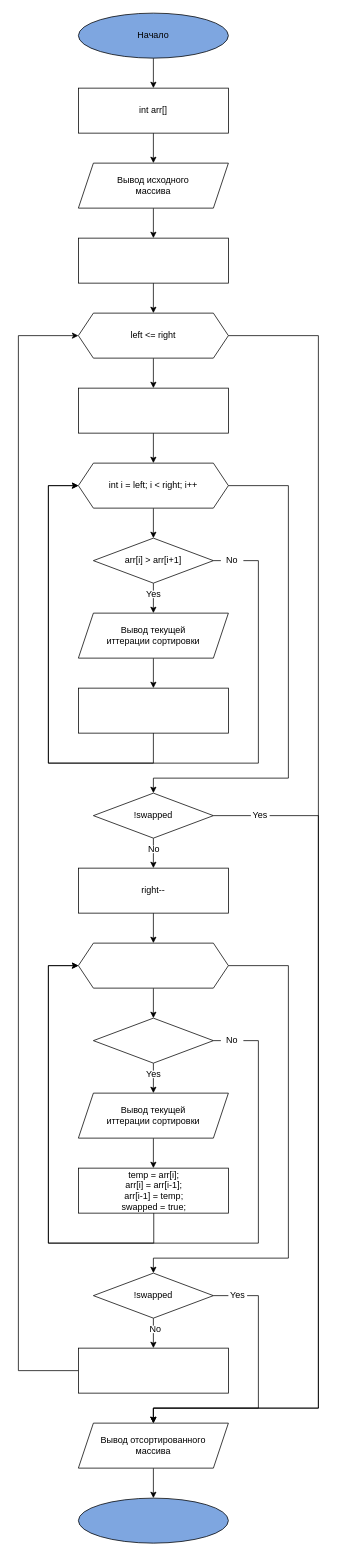
This 338x1556 diagram has some shape labels left out. The centre of each missing label's shape, as x and y in pixels:
"arr[i] < arr[i-1]" goes at point (153, 1040).
"int i = right; i > left; i--" goes at point (153, 965).
"int left = 0; int right = size - 1;" goes at point (153, 260).
"left++" goes at point (153, 1370).
"swapped = false;" goes at point (153, 410).
"temp = arr[i]; arr[i] = arr[i+1]; arr[i+1] = temp; swapped = true;" goes at point (153, 710).
"Конец" goes at point (153, 1520).
